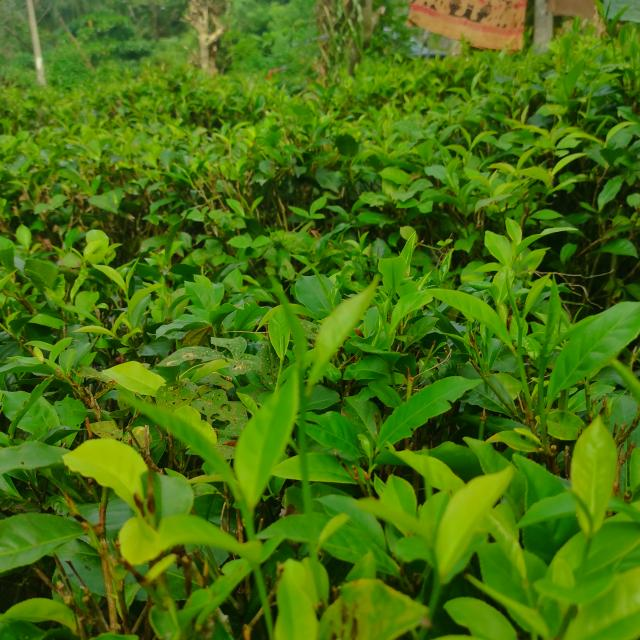unopened_leaf: (257, 263, 316, 392), (498, 259, 532, 344), (552, 480, 600, 530)
